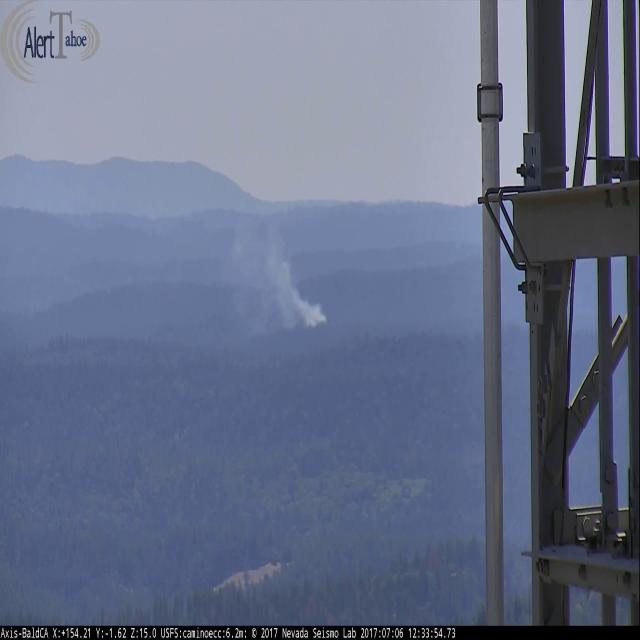smoke: (224, 210, 328, 335)
